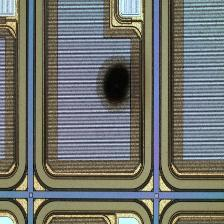PARTICLE: (88, 56, 148, 116)
